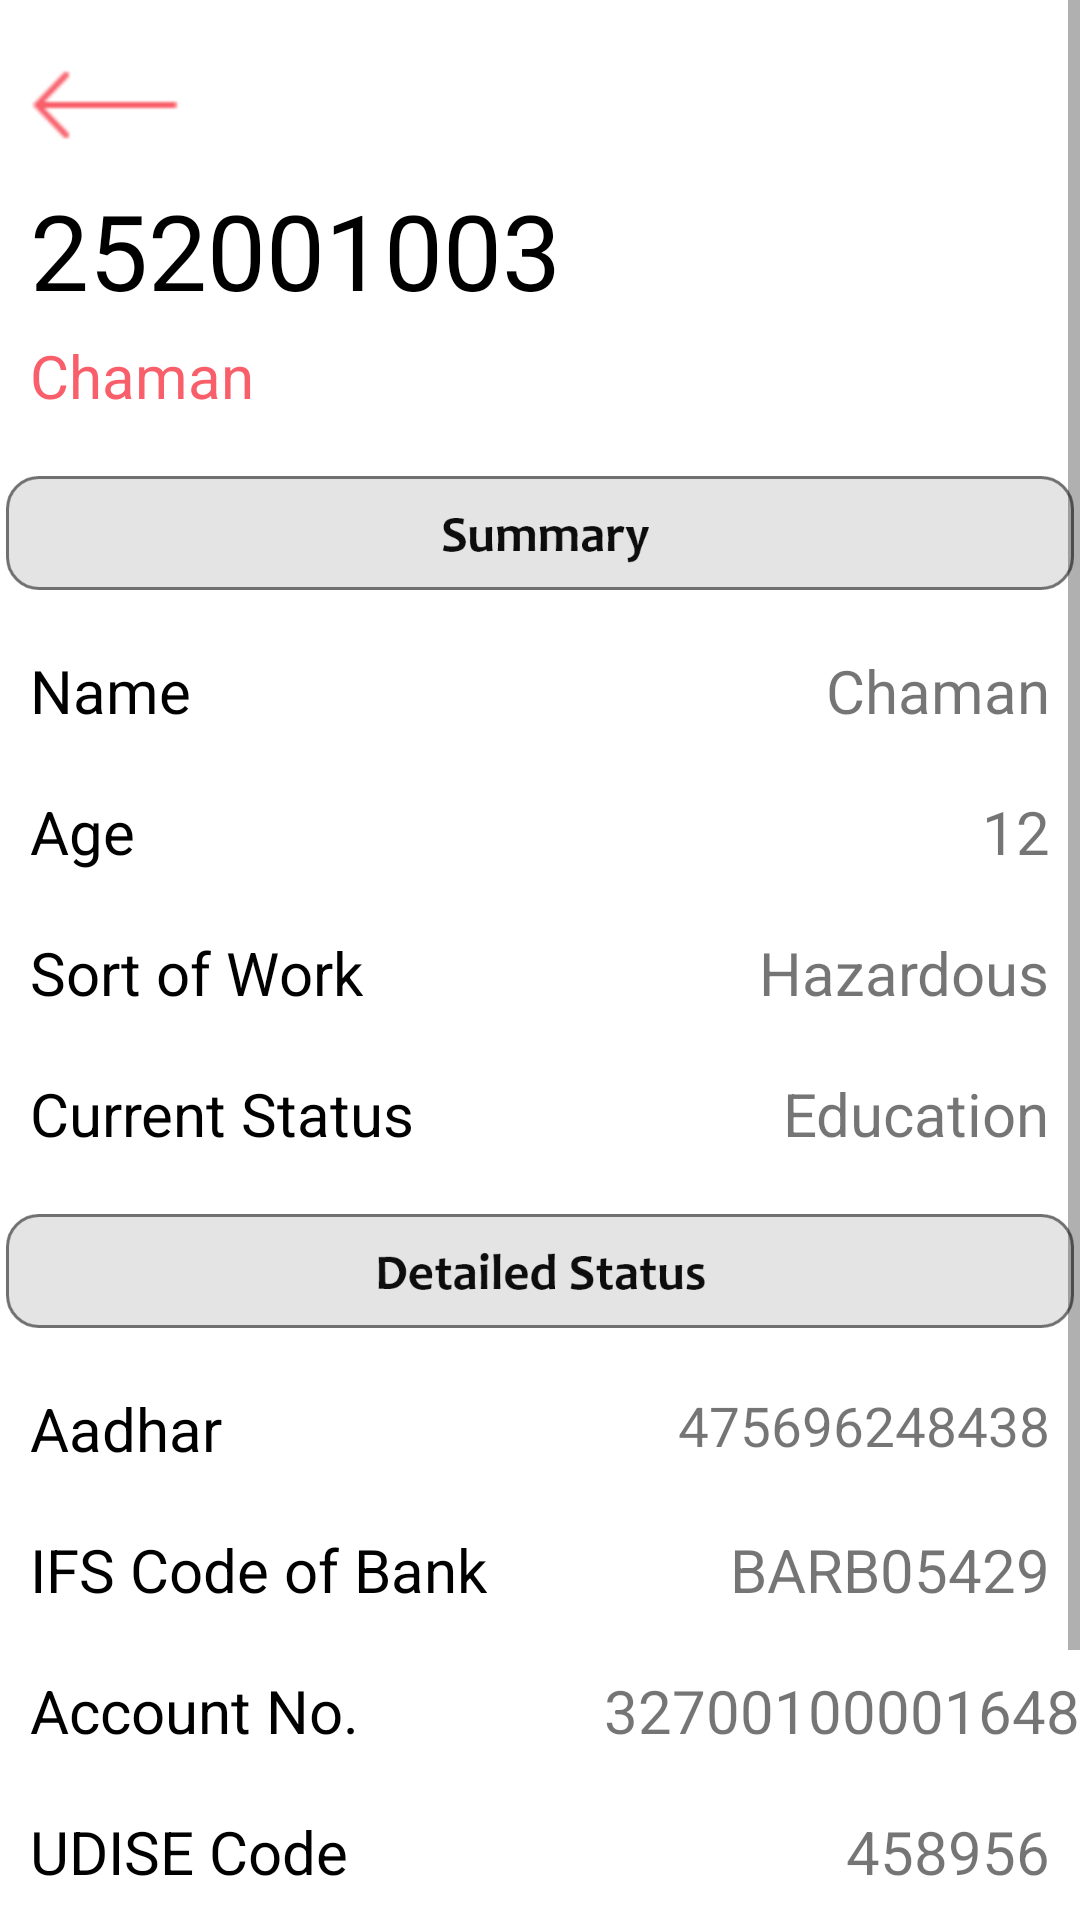

Named icons in this screenshot (1080*1920) and their centers, point (x, y):
left arrow: point (105, 105)
